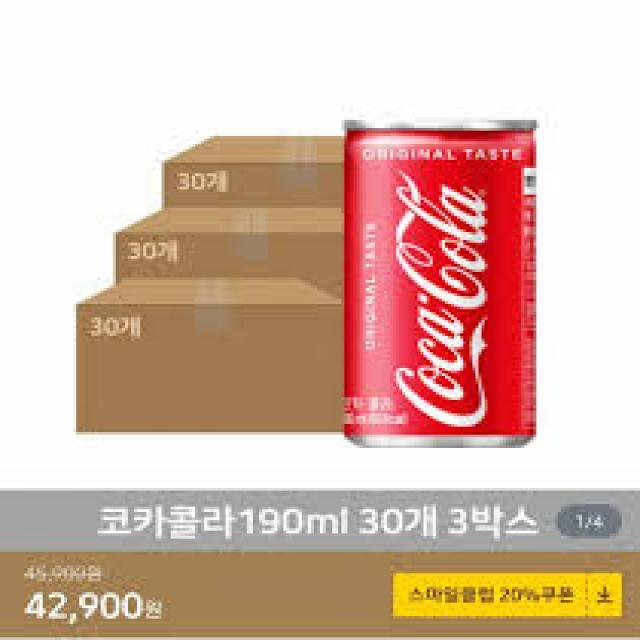Coca-Cola: (328, 113, 541, 450)
